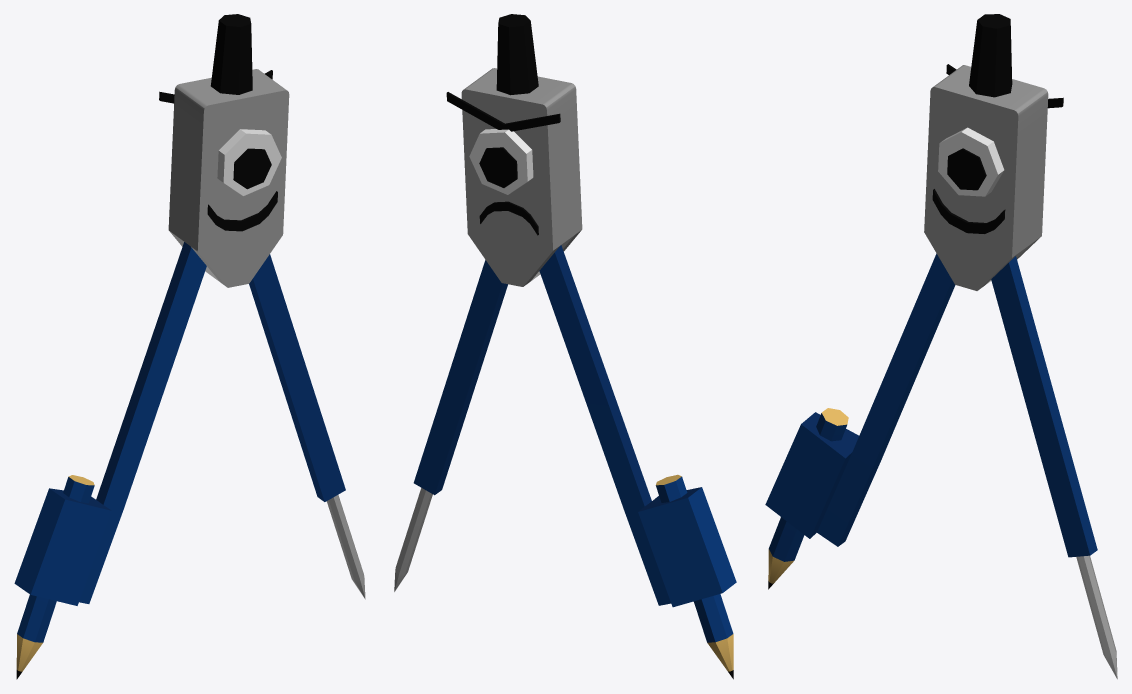
Rendered from konpa50kick.fbx.
3 renders of one model, left to right at view 1: azimuth 30°, elevation 25°; view 2: azimuth 150°, elevation 25°; view 3: azimuth 330°, elevation 25°, orthographic. The views are drawn at different scales.
Parts seen in each view (by area): view 1: pasted__pCube12; view 2: pasted__pCube12; view 3: pasted__pCube12.
Boxes of the visible parts, box(x1,y1,x2,y2) form: pasted__pCube12: box(14, 14, 365, 679); pasted__pCube12: box(394, 14, 736, 679); pasted__pCube12: box(765, 14, 1117, 679).
Size of the model in its own units: 288 by 486 by 62.74.
